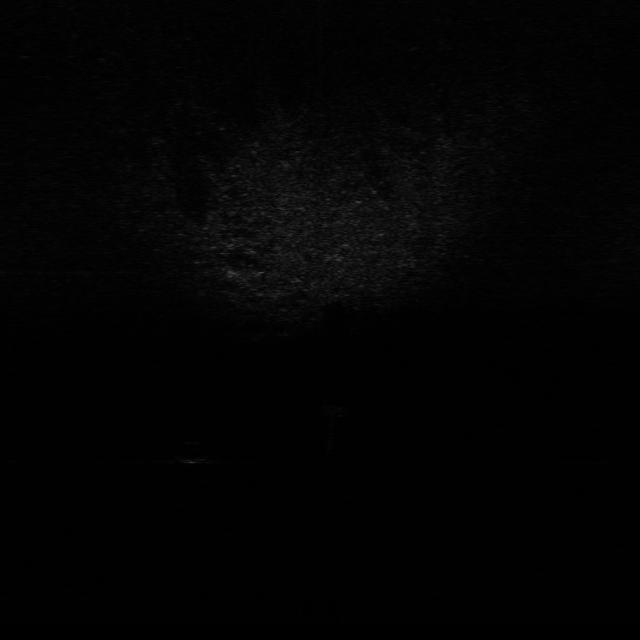ball: (170, 439, 220, 469)
cube: (319, 399, 352, 419)
